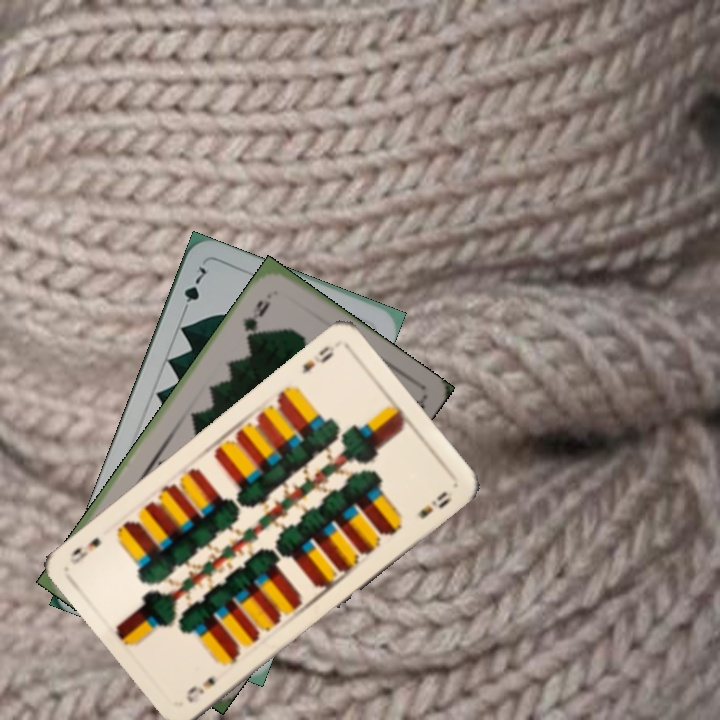E9: (297, 341, 338, 376), (182, 673, 218, 706)
G7: (177, 263, 209, 318)
G9: (239, 296, 273, 342)
